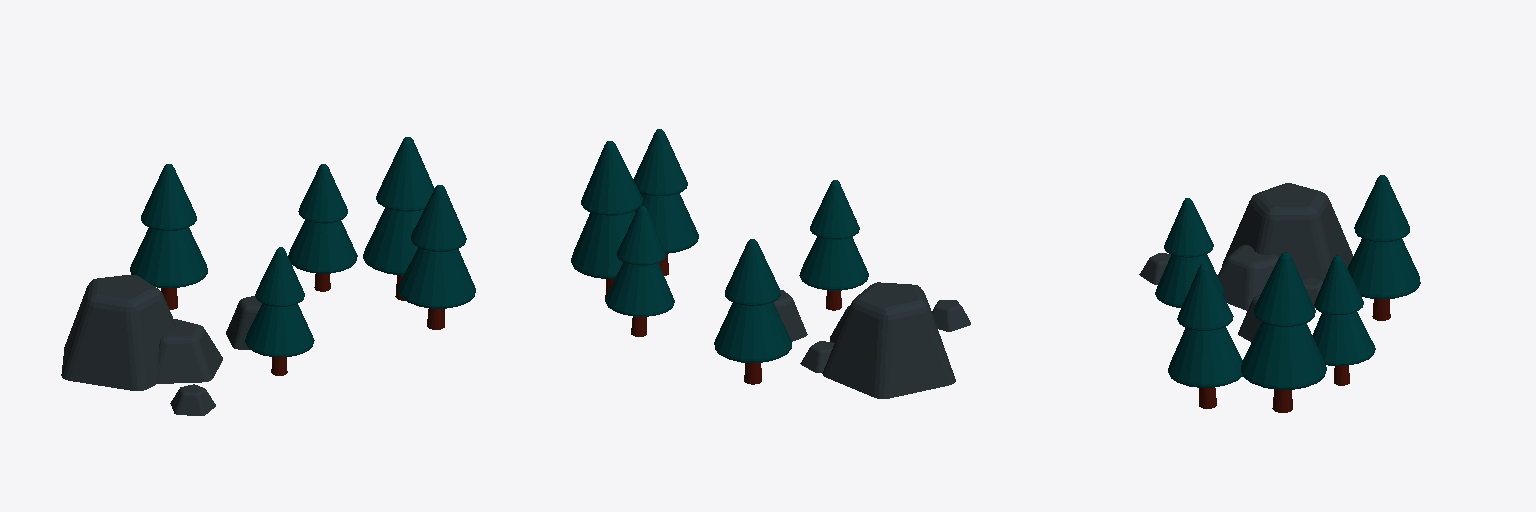
The model's file is detail_forestA.obj.
3 views of the same model, side by side, from view 1: azimuth 30°, elevation 25°; view 2: azimuth 150°, elevation 25°; view 3: azimuth 270°, elevation 25° (orthographic).
Visible parts, largest first — view 1: detail_forestA_Cylinder.760; view 2: detail_forestA_Cylinder.760; view 3: detail_forestA_Cylinder.760.
Part boxes in pixels (bbox=[...]): detail_forestA_Cylinder.760: bbox=[61, 137, 475, 415]; detail_forestA_Cylinder.760: bbox=[571, 129, 970, 398]; detail_forestA_Cylinder.760: bbox=[1139, 175, 1420, 412].
Bounding box in the file's own units: 1.84 × 0.7338 × 1.18.